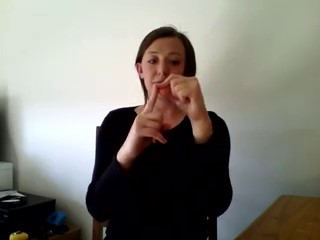P: (126, 73, 205, 156)
